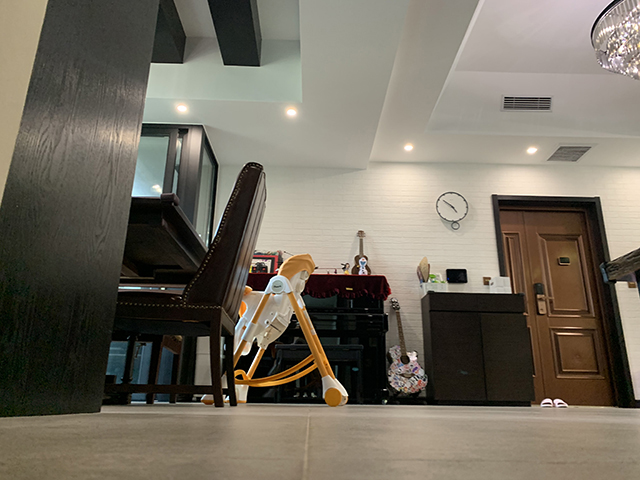cabinet: (421, 290, 537, 407)
slippers: (552, 396, 568, 410), (539, 397, 554, 408)
stool: (105, 161, 268, 409), (270, 342, 366, 404)
